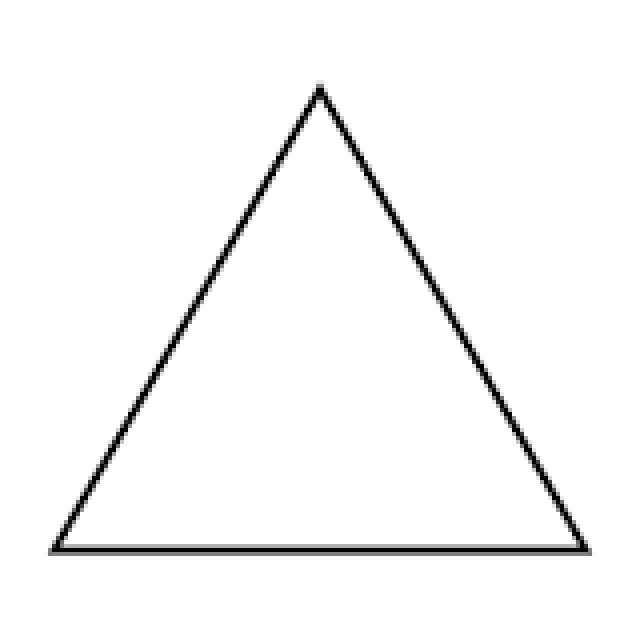Segitiga: (19, 15, 627, 601)
